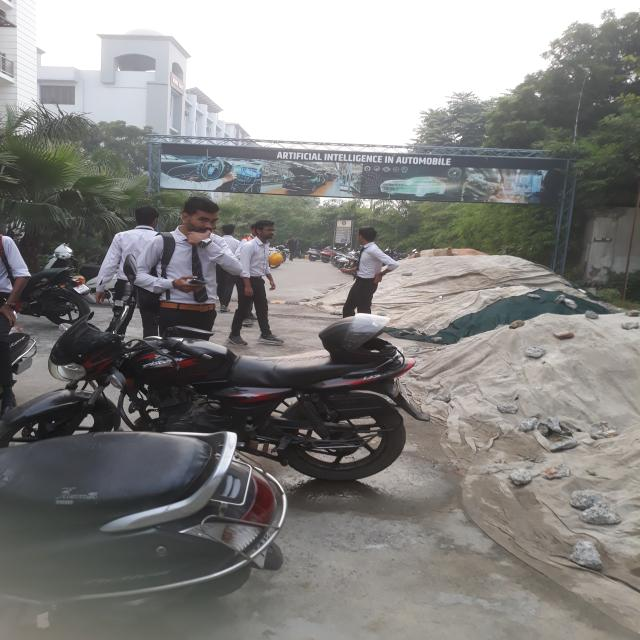unsafe: (138, 198, 241, 356), (95, 205, 161, 351), (227, 220, 288, 346), (342, 228, 398, 322), (220, 223, 242, 311)
